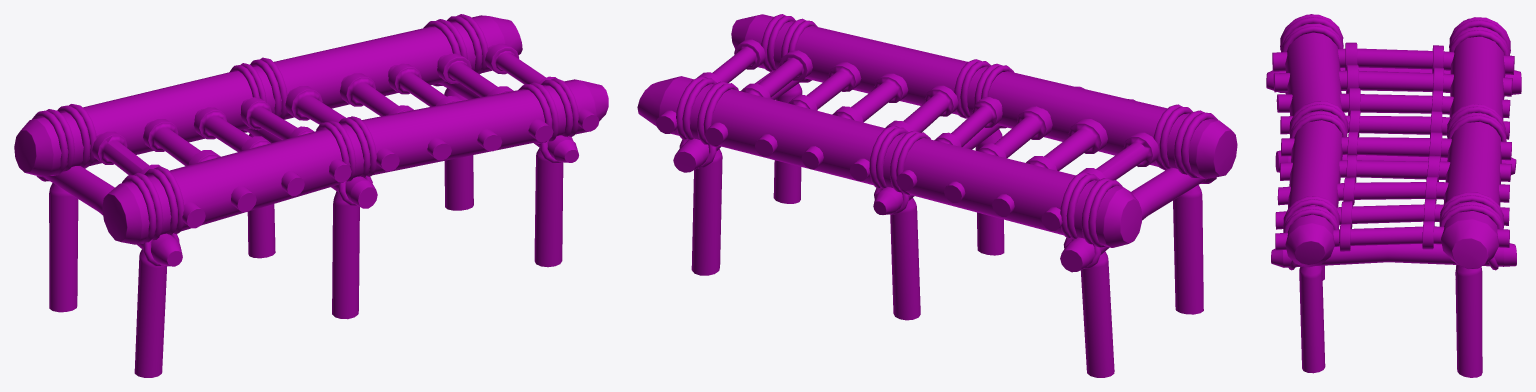
Rendered from Loading_Dock.fbx.
3 renders of one model, left to right at view 1: azimuth 30°, elevation 25°; view 2: azimuth 150°, elevation 25°; view 3: azimuth 270°, elevation 25°, orthographic. The views are drawn at different scales.
Visible parts, largest first — view 1: Loading_Dock; view 2: Loading_Dock; view 3: Loading_Dock.
Part boxes in pixels (bbox=[...]): Loading_Dock: bbox=[14, 14, 608, 377]; Loading_Dock: bbox=[637, 14, 1237, 377]; Loading_Dock: bbox=[1266, 14, 1521, 377].
Size of the model in its own units: 18.18 by 7.02 by 8.89.
